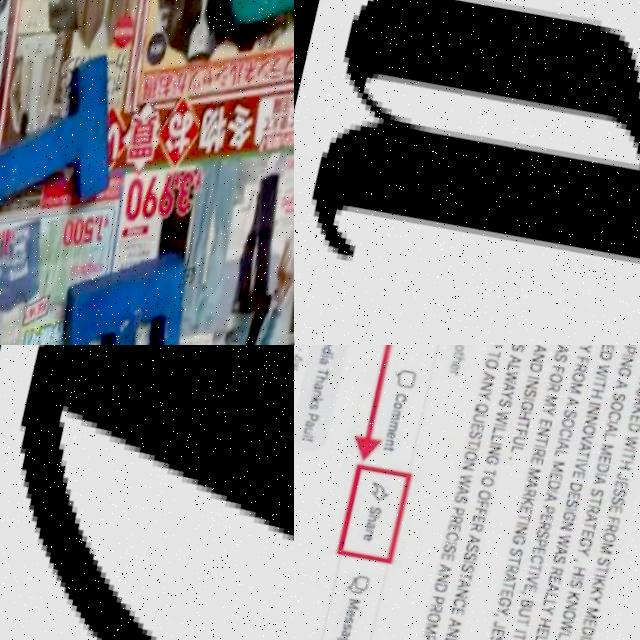0: (0, 345, 294, 640), (294, 356, 299, 366)
A: (294, 0, 640, 345)
B: (29, 238, 200, 345)
T: (0, 38, 133, 243)
